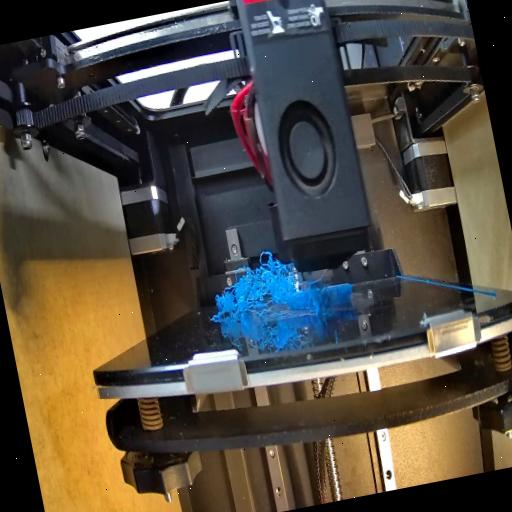spaghetti: (210, 260, 306, 320), (304, 279, 342, 329)
